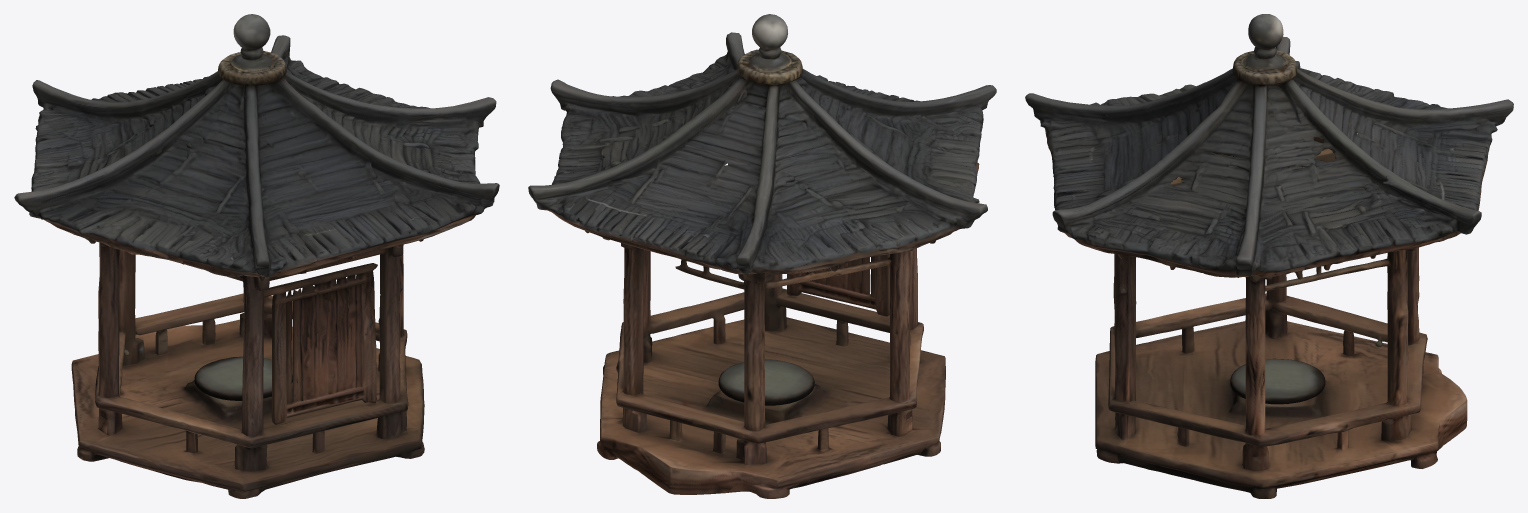
File: plaza-gazebo-japanese.glb
3 renders of one model, left to right at view 1: azimuth 30°, elevation 25°; view 2: azimuth 150°, elevation 25°; view 3: azimuth 270°, elevation 25°, orthographic.
Parts seen in each view (by area): view 1: tripo_node_57e78847-a184-432f-8992-9944416d648d; view 2: tripo_node_57e78847-a184-432f-8992-9944416d648d; view 3: tripo_node_57e78847-a184-432f-8992-9944416d648d.
Part boxes in pixels (<box>): tripo_node_57e78847-a184-432f-8992-9944416d648d: <box>14,14,499,498</box>; tripo_node_57e78847-a184-432f-8992-9944416d648d: <box>528,14,996,498</box>; tripo_node_57e78847-a184-432f-8992-9944416d648d: <box>1025,14,1513,498</box>.
Size of the model in its own units: 5.82 by 5 by 5.36.
1 material, 1 textured.
